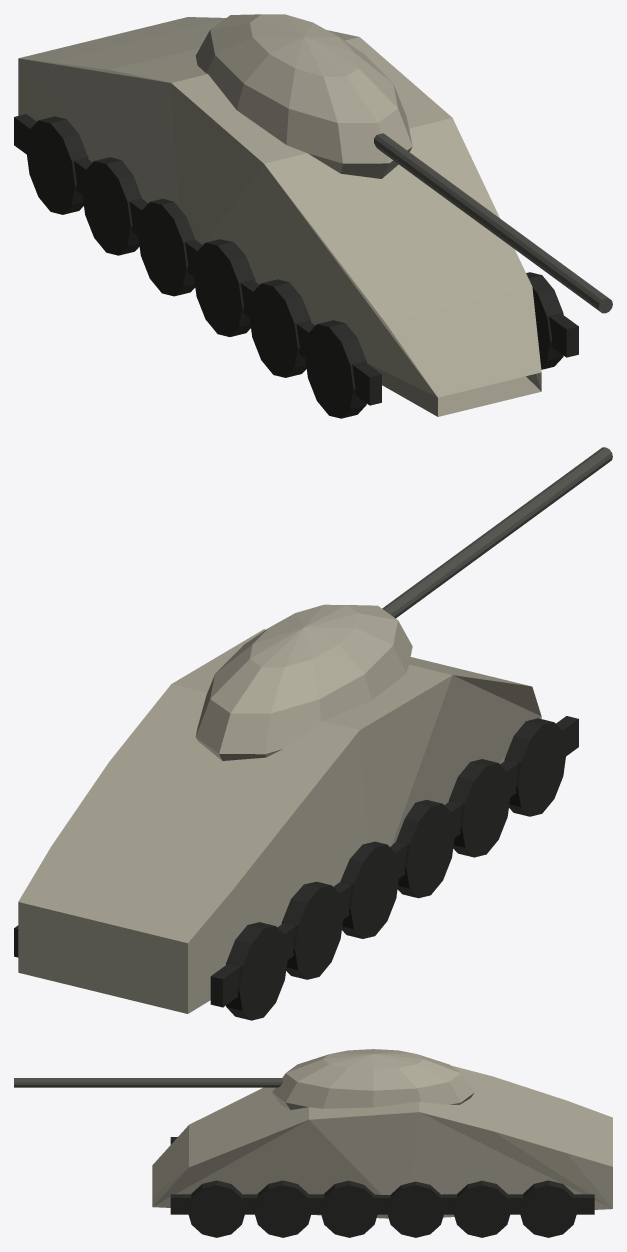
3 renders of one model, top to bottom at view 1: azimuth 30°, elevation 25°; view 2: azimuth 150°, elevation 25°; view 3: azimuth 270°, elevation 25°, orthographic. The views are drawn at different scales.
Parts seen in each view (by area): view 1: Hull, Turret, Gun, Wheel_L_01, Wheel_L_06, Wheel_L_02, Wheel_L_03, Wheel_L_05, Wheel_L_04, Track_L, Wheel_R_01, Track_R; view 2: Hull, Turret, Gun, Wheel_L_06, Wheel_L_01, Wheel_L_02, Wheel_L_05, Wheel_L_03, Wheel_L_04, Track_L; view 3: Hull, Turret, Gun, Wheel_R_02, Wheel_R_06, Wheel_R_01, Wheel_R_03, Wheel_R_05, Wheel_R_04, Track_R.
Part boxes in pixels (x1,y1,x2,y2): Hull: [18, 17, 541, 416]; Turret: [195, 14, 412, 178]; Gun: [374, 133, 612, 313]; Wheel_L_01: [304, 320, 366, 418]; Wheel_L_06: [26, 116, 88, 214]; Wheel_L_02: [249, 279, 310, 377]; Wheel_L_03: [193, 239, 255, 336]; Wheel_L_05: [82, 157, 141, 255]; Wheel_L_04: [137, 198, 195, 296]; Track_L: [14, 114, 381, 405]; Wheel_R_01: [526, 272, 563, 369]; Track_R: [549, 313, 578, 357]; Hull: [18, 629, 541, 1013]; Turret: [195, 604, 412, 760]; Gun: [382, 447, 612, 618]; Wheel_L_06: [226, 922, 288, 1020]; Wheel_L_01: [504, 718, 566, 816]; Wheel_L_02: [448, 759, 510, 857]; Wheel_L_05: [281, 881, 343, 979]; Wheel_L_03: [396, 799, 455, 898]; Wheel_L_04: [340, 841, 399, 938]; Track_L: [210, 716, 578, 1007]; Hull: [152, 1065, 612, 1218]; Turret: [272, 1049, 474, 1109]; Gun: [14, 1078, 282, 1087]; Wheel_R_02: [254, 1180, 312, 1237]; Wheel_R_06: [519, 1180, 577, 1237]; Wheel_R_01: [187, 1180, 245, 1237]; Wheel_R_03: [320, 1180, 378, 1237]; Wheel_R_05: [453, 1180, 511, 1237]; Wheel_R_04: [386, 1181, 444, 1237]; Track_R: [170, 1194, 594, 1214].
Size of the model in its own units: 2.91 by 3.35 by 11.89.
